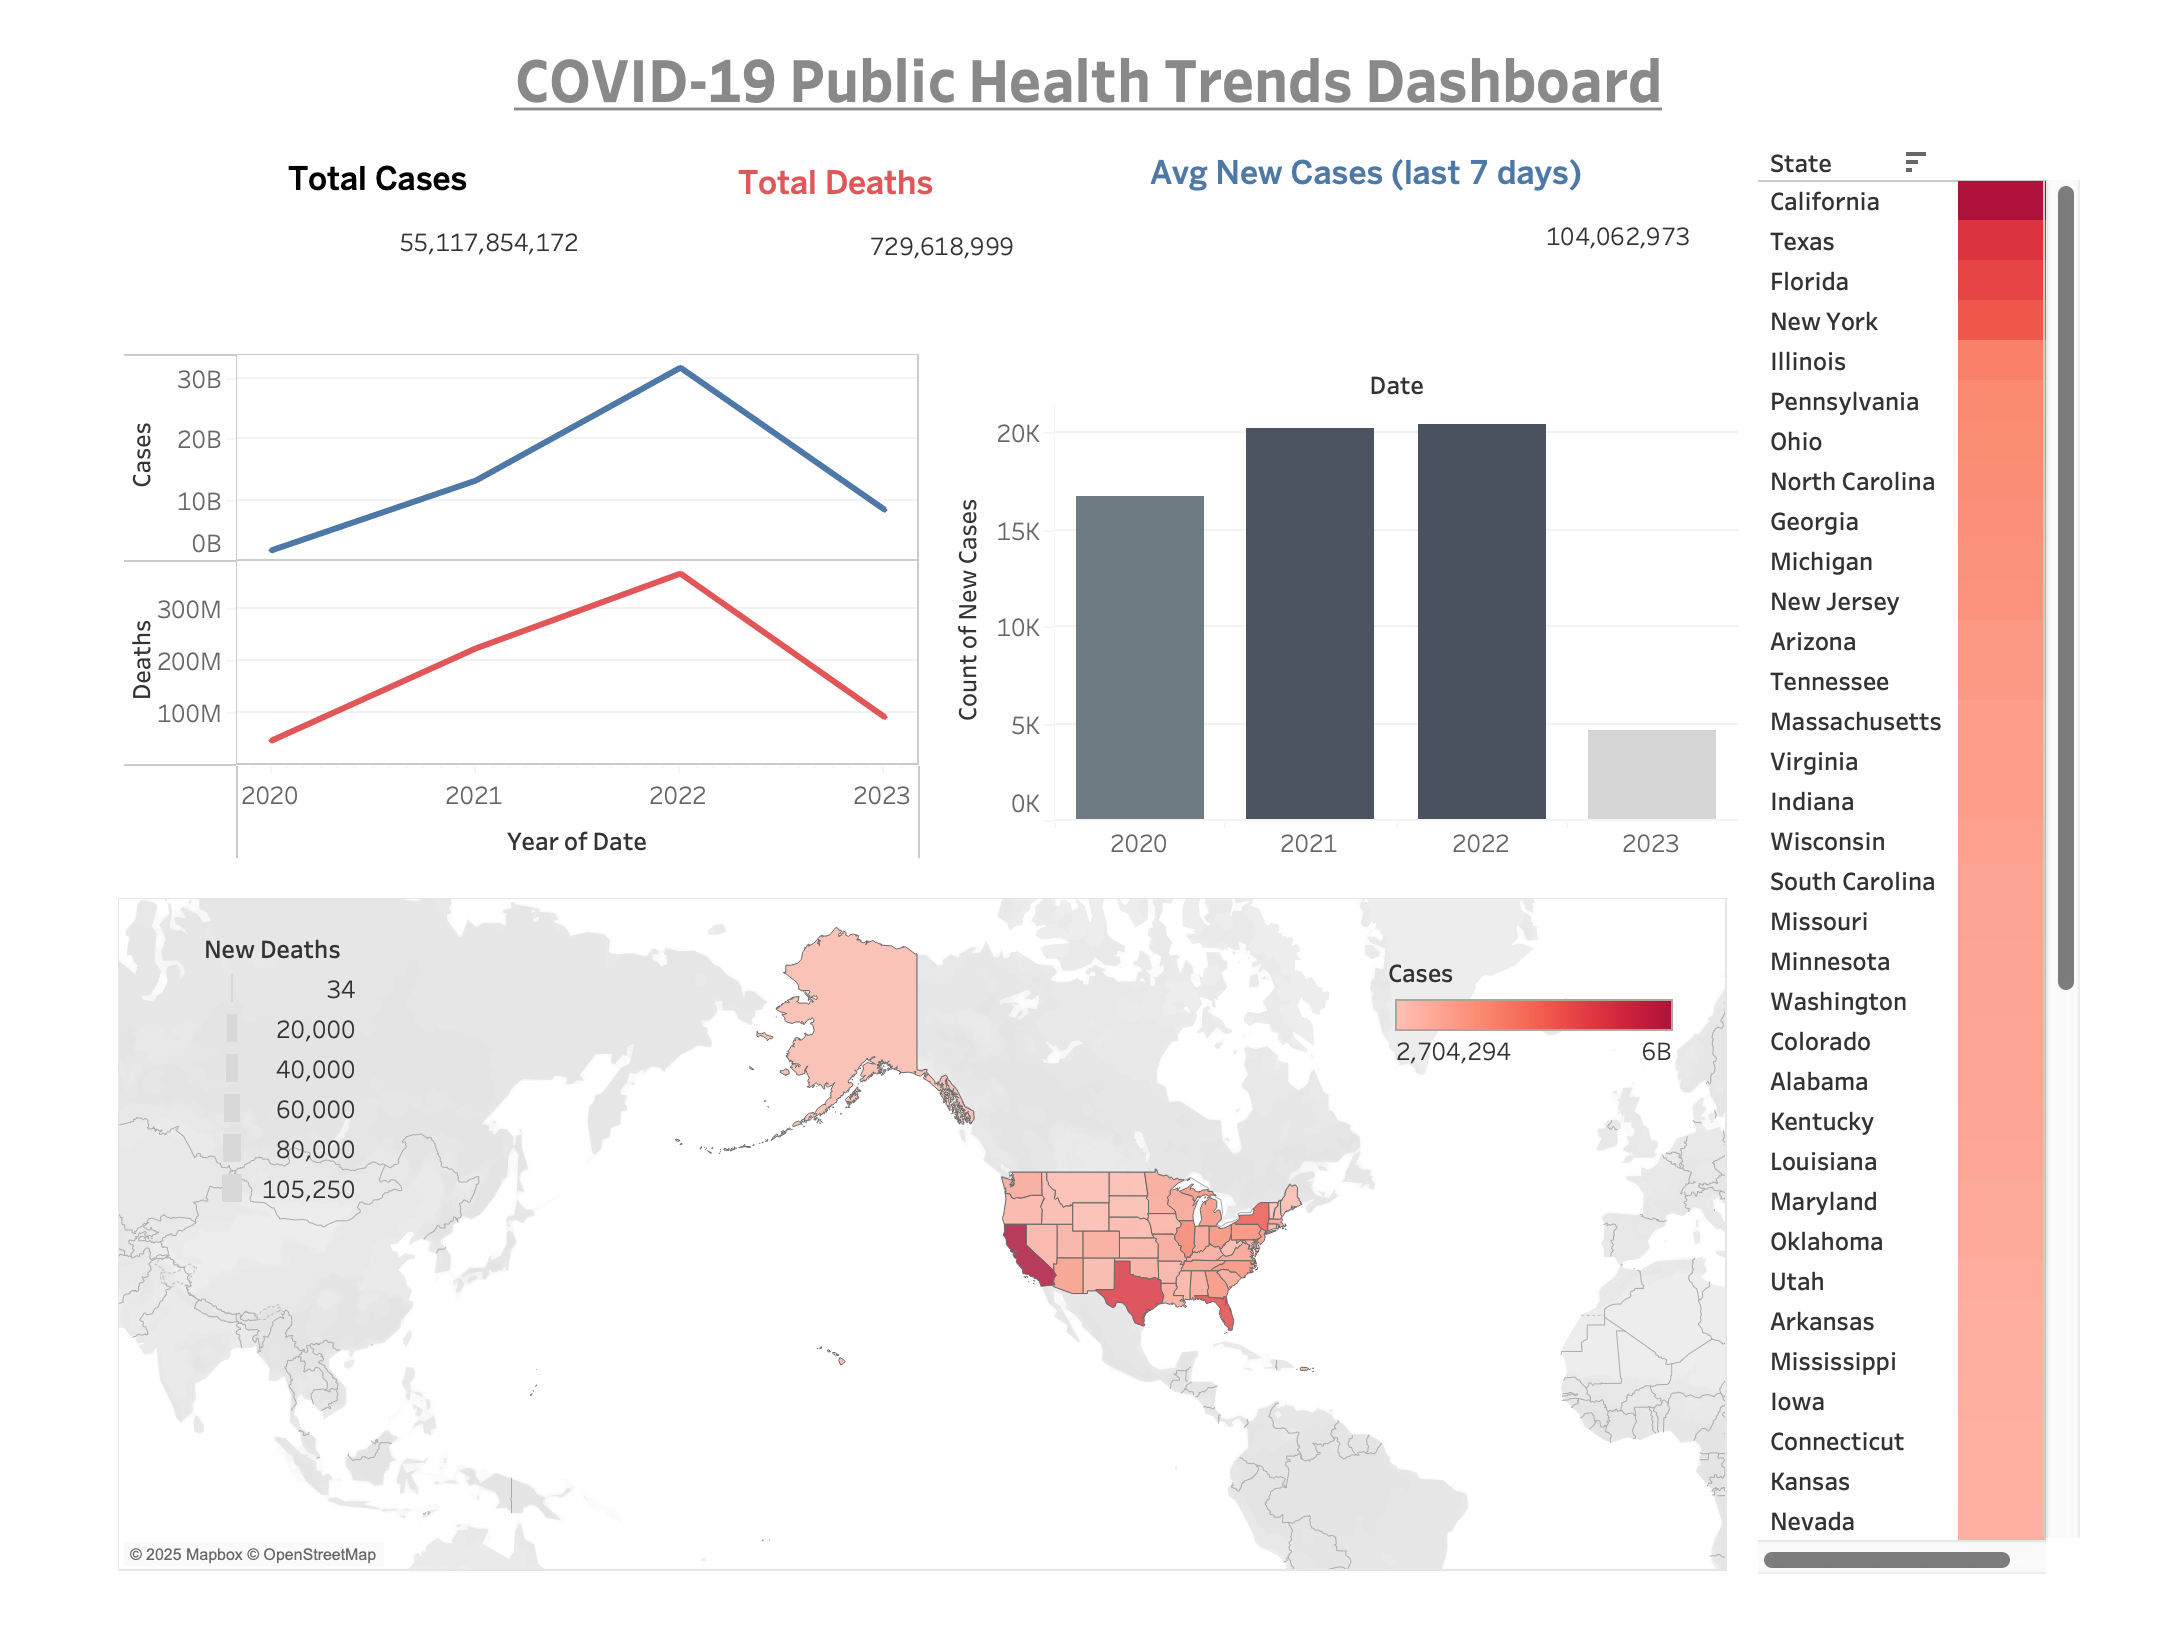

What the dashboard file says about the page in this screenshot:
{"tool":"tableau","page":{"name":"Dashboard 1","canvas":[1000,800],"ordinal":0},"visuals":[{"type":"text","box":[131,4,727,49]},{"type":"worksheet","title":"Sheet 2","mark":"Square","rows":["state"],"box":[829,44,161,732]},{"type":"worksheet","title":"Sheet 7","mark":"Automatic","box":[521,62,278,94]},{"type":"worksheet","title":"Sheet 5","mark":"Automatic","box":[90,65,153,89]},{"type":"worksheet","title":"Sheet 6","mark":"Automatic","box":[315,67,146,88]},{"type":"worksheet","title":"Sheet 1","mark":"Automatic","rows":["cases","deaths"],"cols":["date"],"box":[12,151,398,268]},{"type":"worksheet","title":"Sheet 3","mark":"Bar","rows":["new_cases"],"cols":["date"],"box":[418,156,401,264]},{"type":"worksheet","title":"Sheet 4","mark":"Multipolygon","box":[9,423,805,352]},{"type":"legend","title":"Sheet 4","param":"[federated.0yvxy341x72d5i19ohjap0i0rj99].[sum:new_deaths:qk]","box":[52,455,142,139]},{"type":"legend","title":"Sheet 2","param":"[federated.0yvxy341x72d5i19ohjap0i0rj99].[sum:cases:qk]","box":[644,467,147,76]}]}

Visuals, with their boxes on the page's 1000x800 design canvas (x1, y1, x2, y2). These are canvas units, not pixel positions in the 2170x1628 screenshot, which may show the page scaled, cropped or inside an application window:
text: left=131, top=4, right=858, bottom=53
"Sheet 2" worksheet (Square marks): left=829, top=44, right=990, bottom=776
"Sheet 7" worksheet: left=521, top=62, right=799, bottom=156
"Sheet 5" worksheet: left=90, top=65, right=243, bottom=154
"Sheet 6" worksheet: left=315, top=67, right=461, bottom=155
"Sheet 1" worksheet: left=12, top=151, right=410, bottom=419
"Sheet 3" worksheet (Bar marks): left=418, top=156, right=819, bottom=420
"Sheet 4" worksheet (Multipolygon marks): left=9, top=423, right=814, bottom=775
"Sheet 4" legend: left=52, top=455, right=194, bottom=594
"Sheet 2" legend: left=644, top=467, right=791, bottom=543
